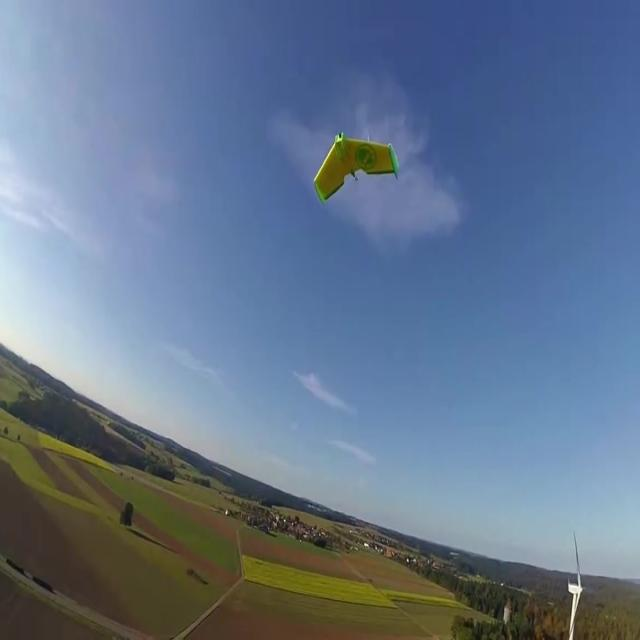iha: (343, 163, 369, 177)
